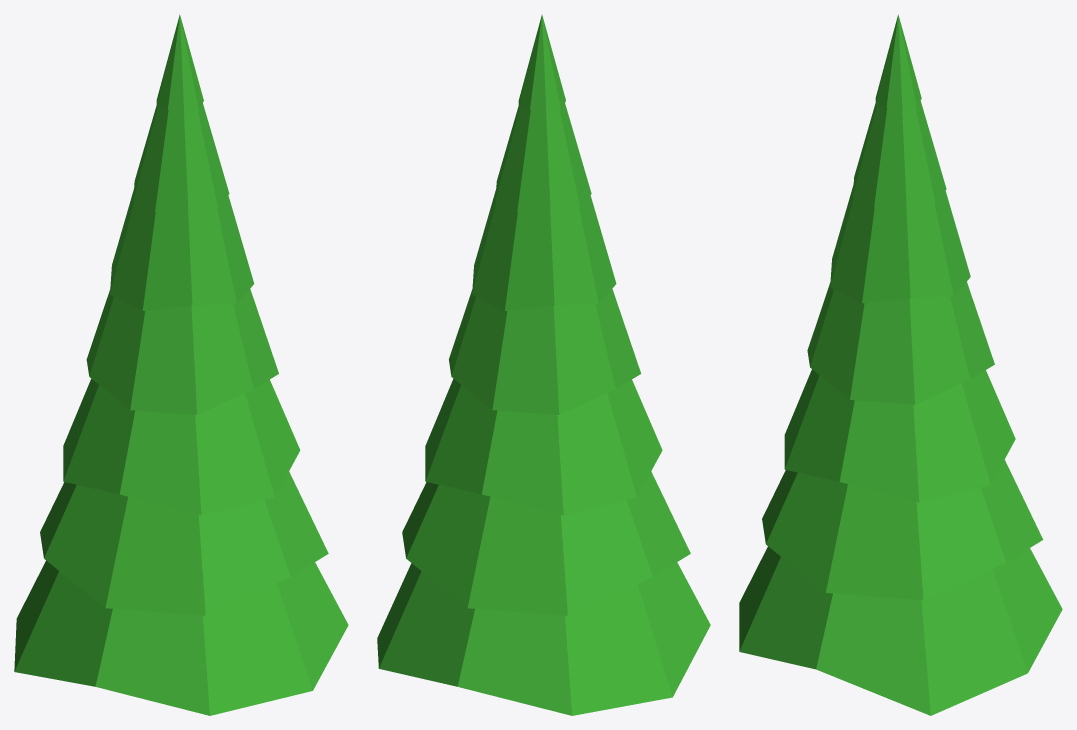
The model's file is sapin.fbx.
3 views of the same model, side by side, from view 1: azimuth 30°, elevation 25°; view 2: azimuth 150°, elevation 25°; view 3: azimuth 270°, elevation 25° (orthographic). The views are drawn at different scales.
Parts seen in each view (by area): view 1: Cylinder; view 2: Cylinder; view 3: Cylinder.
Boxes of the visible parts, x1,y1,x2,y2 form: Cylinder: [14, 14, 348, 715]; Cylinder: [377, 14, 710, 715]; Cylinder: [739, 14, 1062, 715].
Size of the model in its own units: 394 by 840 by 382.
